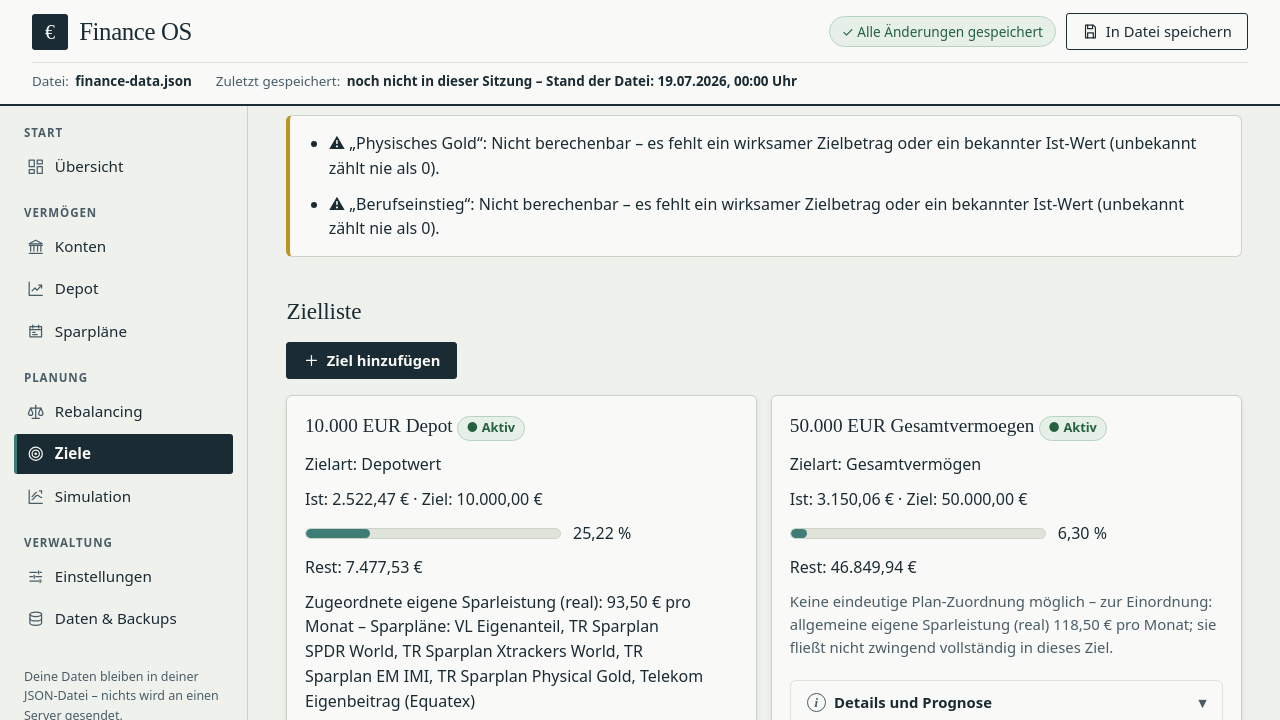
GoalsPage – Formulare › Escape schließt das Formular ohne Übernahme
This screenshot has width=1280, height=720.
(page scrolled)
Click the button "Ziel hinzufügen": (372, 360) left=286, top=342, right=457, bottom=379
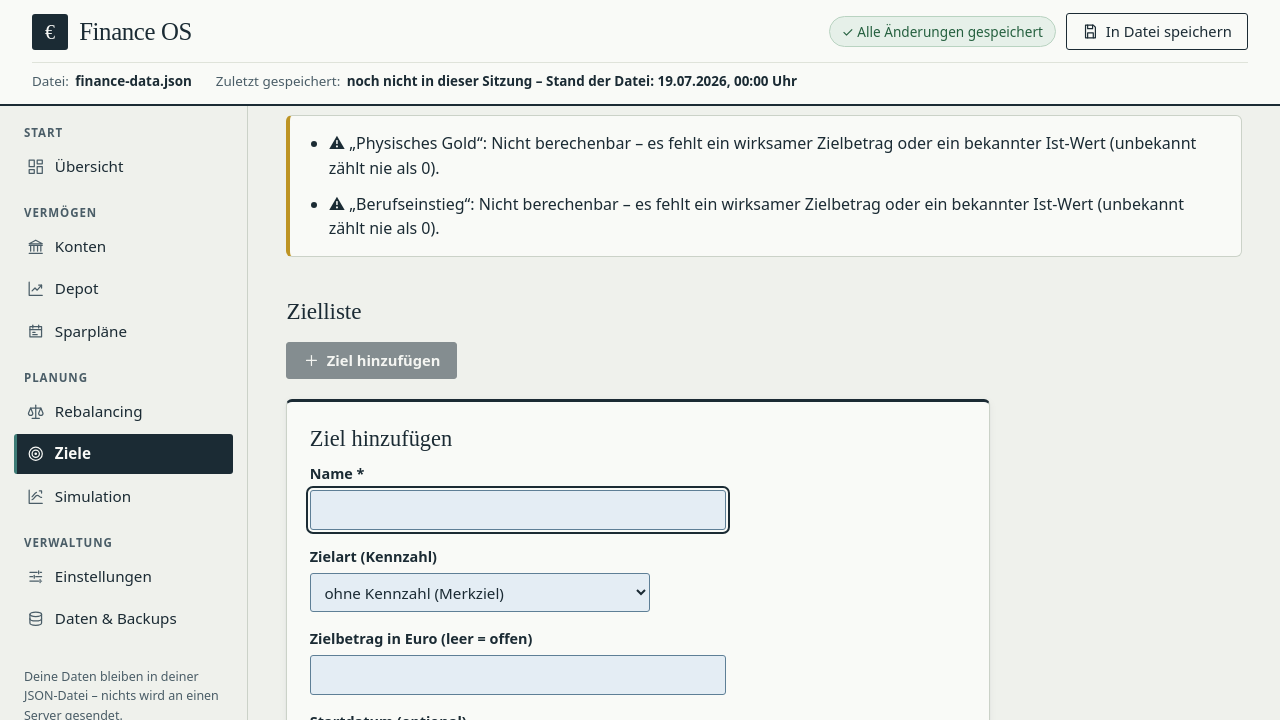
In the field labelled "Name *": (518, 510) left=310, top=490, right=726, bottom=530, type "Escape-Test"
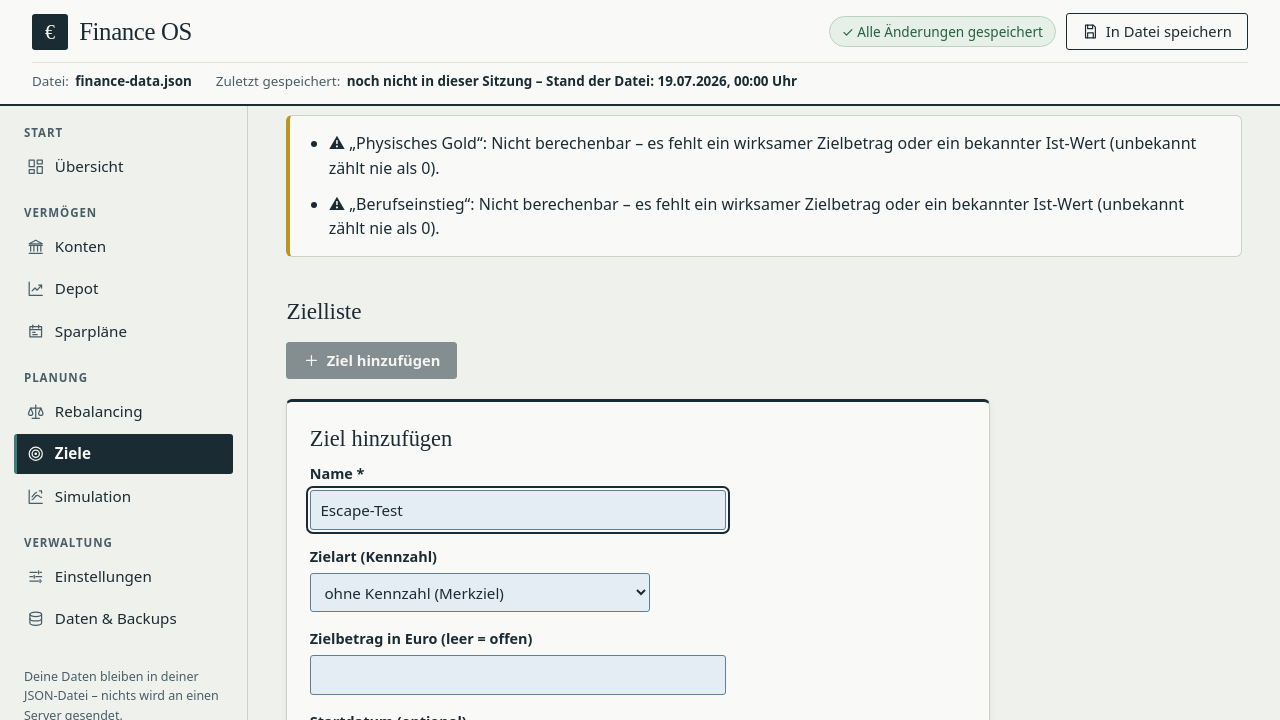
Press Escape in the field labelled "Name *", box left=310, top=490, right=726, bottom=530
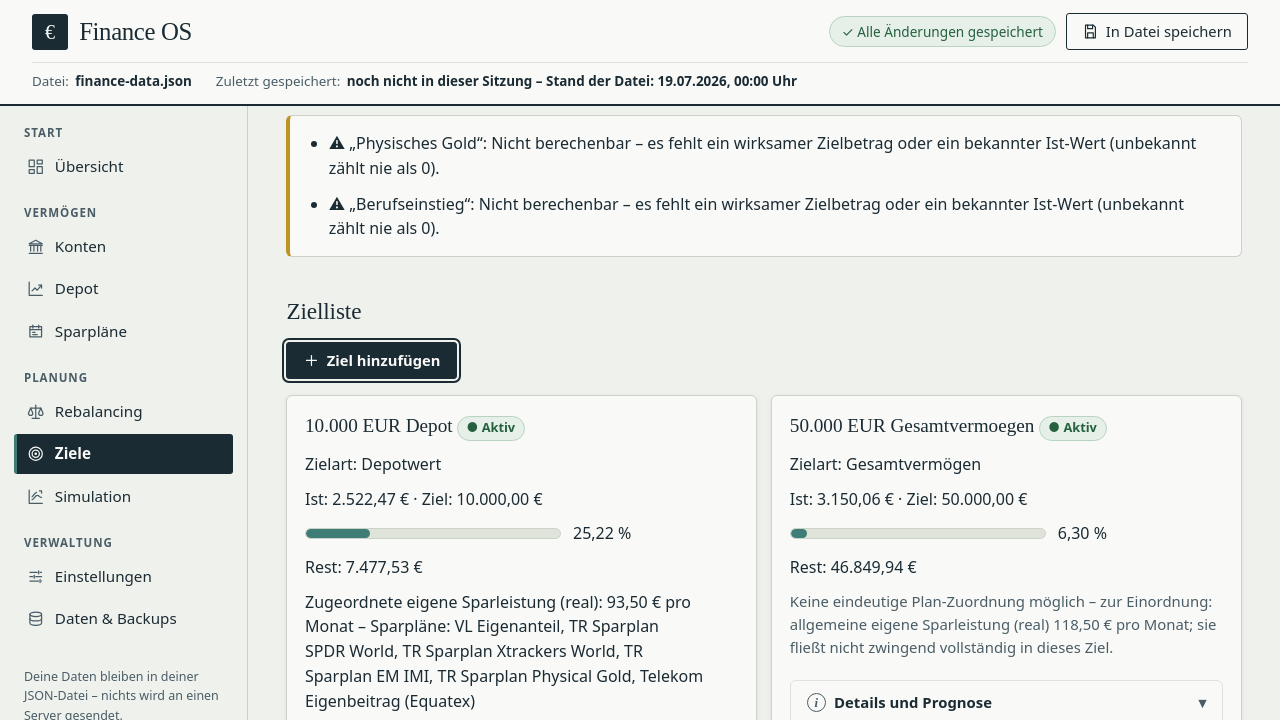
Expected: the label labelled "Name *" is gone
